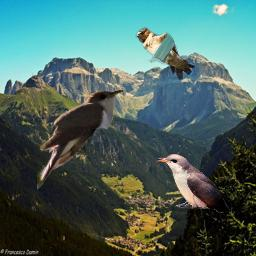Cuckoo: (37, 88, 125, 192), (156, 154, 231, 213)
Swallow: (135, 27, 196, 81)
